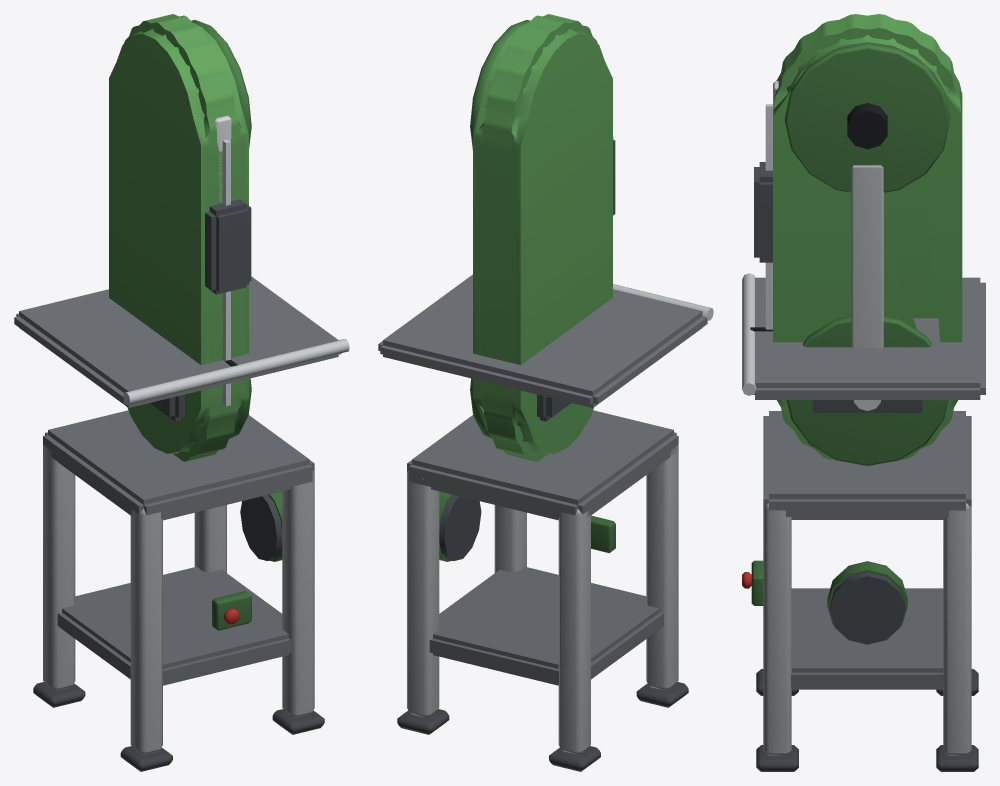
Rendered from SM_BandSaw_01.glb.
3 renders of one model, left to right at view 1: azimuth 30°, elevation 25°; view 2: azimuth 150°, elevation 25°; view 3: azimuth 270°, elevation 25°, orthographic. The views are drawn at different scales.
Parts seen in each view (by area): view 1: SM_BandSaw_01; view 2: SM_BandSaw_01; view 3: SM_BandSaw_01.
Boxes of the visible parts, x1=… form: SM_BandSaw_01: x1=14, y1=14, x2=349, y2=771; SM_BandSaw_01: x1=378, y1=14, x2=713, y2=771; SM_BandSaw_01: x1=742, y1=14, x2=985, y2=771.
Bounding box in the file's own units: 0.55 × 1.65 × 0.515.
1 material, 1 textured.
